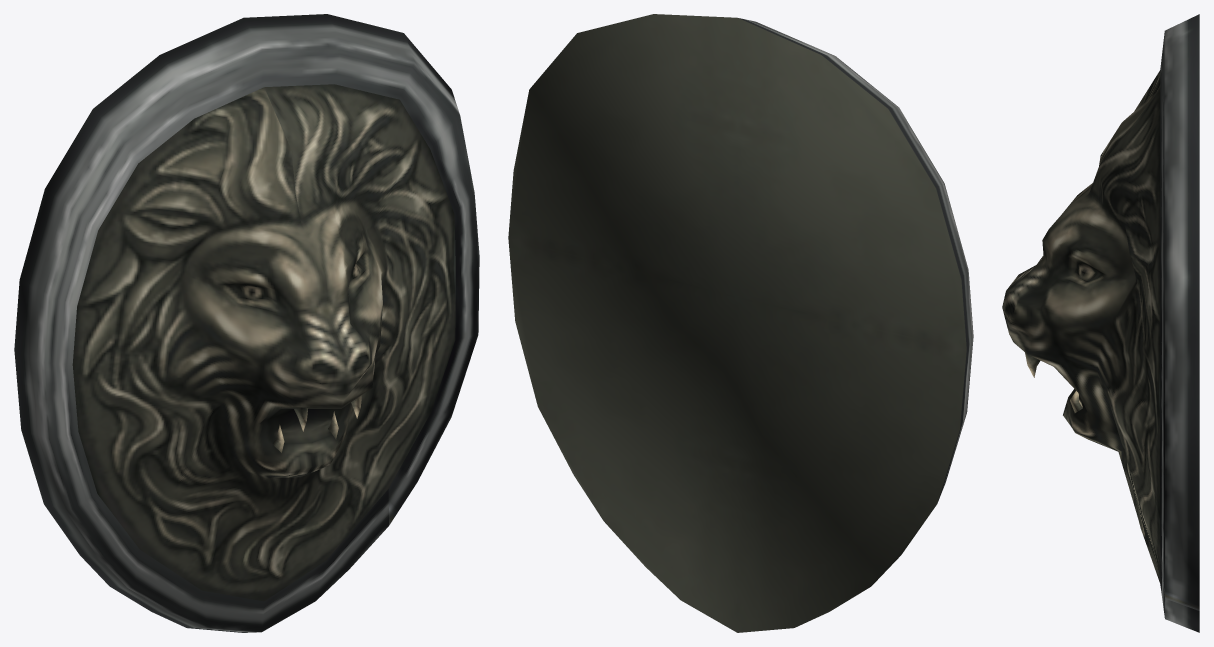
Rendered from GY_diaosu004.fbx.
The picture shows the model from 3 angles, left to right: view 1: azimuth 30°, elevation 25°; view 2: azimuth 150°, elevation 25°; view 3: azimuth 270°, elevation 25°; orthographic projection. The views are drawn at different scales.
Visible parts, largest first — view 1: GY_diaosu004; view 2: GY_diaosu004; view 3: GY_diaosu004.
Boxes of the visible parts, x1=… form: GY_diaosu004: x1=14, y1=14, x2=479, y2=632; GY_diaosu004: x1=508, y1=14, x2=973, y2=632; GY_diaosu004: x1=1002, y1=14, x2=1199, y2=632.
Bounding box in the file's own units: 226 × 290 × 88.46.
